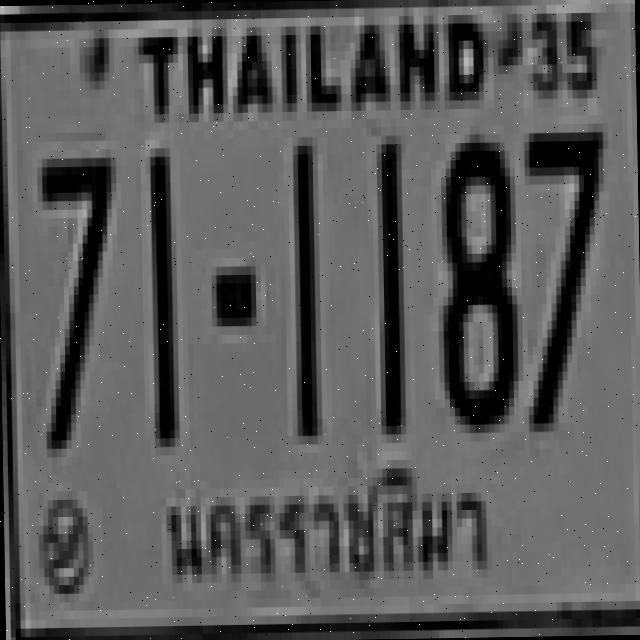1: (290, 137, 320, 436), (147, 148, 177, 438), (374, 136, 404, 426)
7: (36, 149, 116, 449), (523, 124, 602, 424)
8: (435, 133, 514, 424)
NakhonRatchasima: (158, 462, 492, 598)
